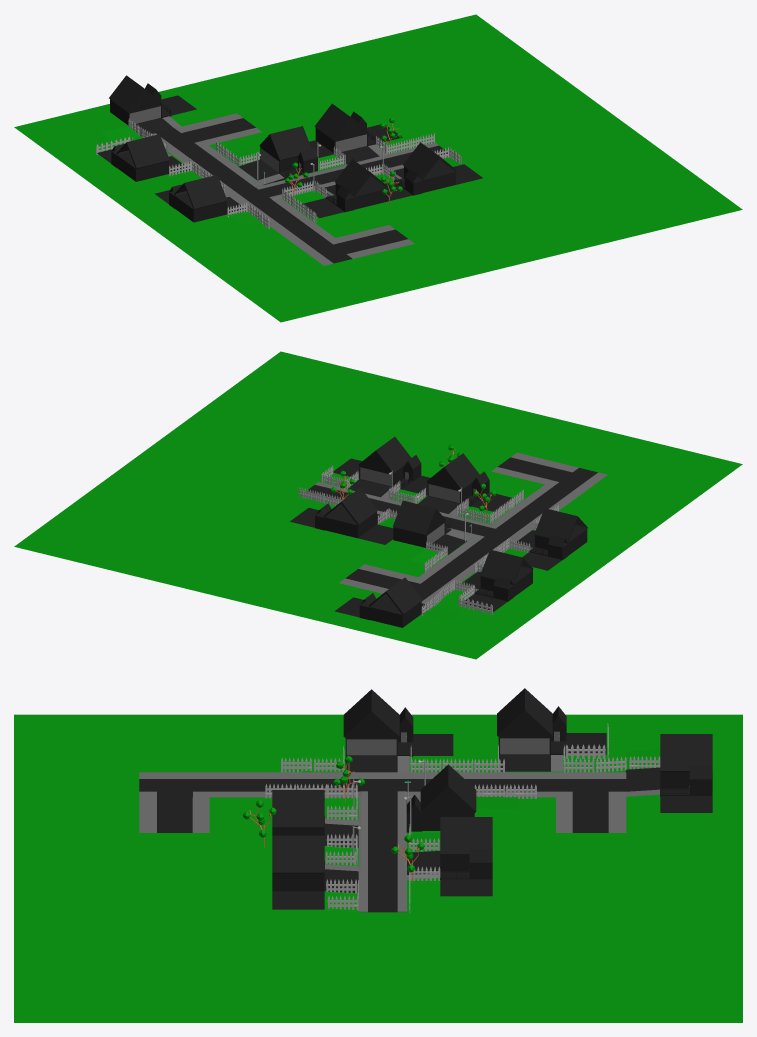
The model's file is Street.fbx.
The picture shows the model from 3 angles, top to bottom: view 1: azimuth 30°, elevation 25°; view 2: azimuth 150°, elevation 25°; view 3: azimuth 270°, elevation 25°; orthographic projection. The views are drawn at different scales.
Visible parts, largest first — view 1: Plane.001, Plane, House.006, House.002, House.004, House.001, House.003, House.005, House.007; view 2: Plane.001, Plane, House.001, House.003, House.002, House.005, House.004, House.006, House.007; view 3: Plane.001, Plane, House.005, House.006, House.007, House.002, House.001, House.003, House.004.
Part boxes in pixels (x1,y1,x2,y2): Plane.001: (14, 14, 742, 322); Plane: (146, 113, 450, 265); House.006: (101, 75, 196, 143); House.002: (309, 103, 402, 171); House.004: (222, 126, 317, 184); House.001: (385, 142, 482, 201); House.003: (302, 159, 393, 218); House.005: (154, 175, 261, 225); House.007: (97, 134, 189, 181); Plane.001: (14, 351, 742, 659); Plane: (301, 452, 607, 604); House.001: (320, 436, 430, 498); House.003: (388, 453, 513, 515); House.002: (290, 487, 395, 544); House.005: (509, 508, 587, 570); House.004: (393, 500, 472, 566); House.006: (335, 577, 461, 627); House.007: (455, 549, 533, 612); Plane.001: (14, 714, 742, 1022); Plane: (139, 772, 626, 912); House.005: (302, 689, 453, 772); House.006: (625, 734, 712, 812); House.007: (497, 688, 606, 771); House.002: (407, 817, 492, 896); House.001: (272, 835, 358, 911); House.003: (272, 790, 358, 866); House.004: (406, 764, 518, 832).
Size of the model in its own units: 16883 by 1285 by 16883.
Materials: 8 (1 with a texture image).
